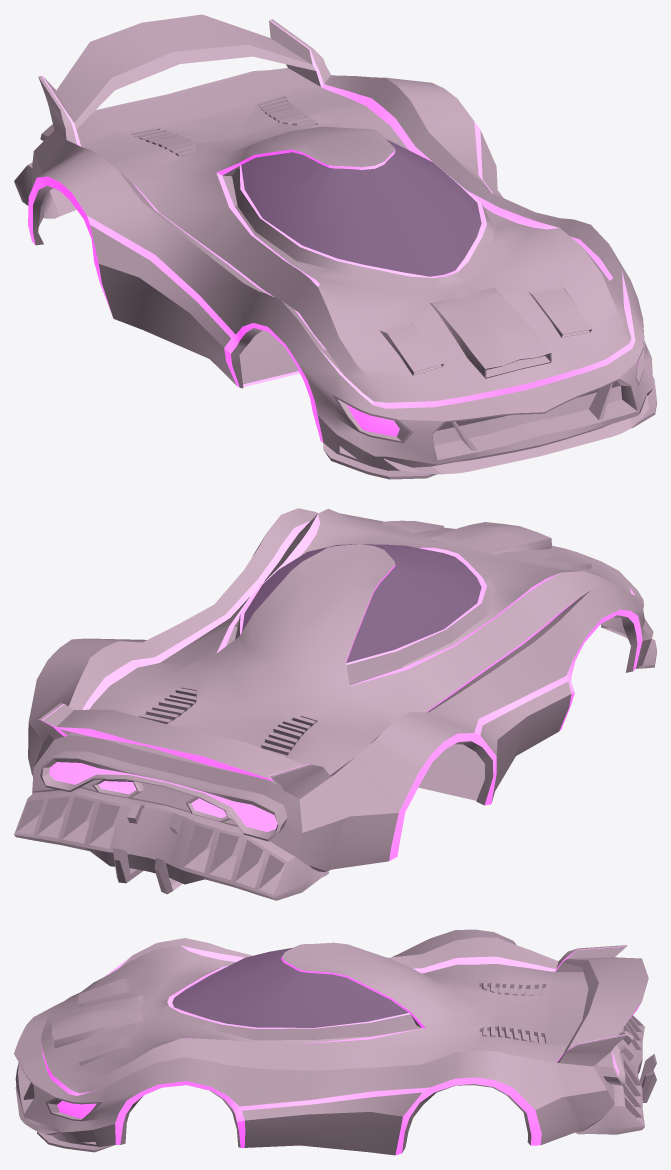
File: auto_ready.fbx
3 renders of one model, top to bottom at view 1: azimuth 30°, elevation 25°; view 2: azimuth 150°, elevation 25°; view 3: azimuth 270°, elevation 25°, orthographic. The views are drawn at different scales.
Visible parts, largest first — view 1: Plane.044; view 2: Plane.044; view 3: Plane.044.
Boxes of the visible parts, x1,y1,x2,y2 form: Plane.044: [14, 14, 656, 479]; Plane.044: [14, 508, 656, 900]; Plane.044: [14, 929, 656, 1155].
Bounding box in the file's own units: 320 × 134 × 567.
